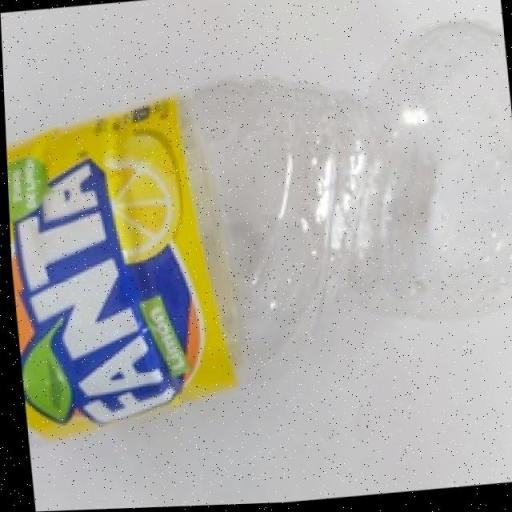plastic: (1, 0, 512, 446)
